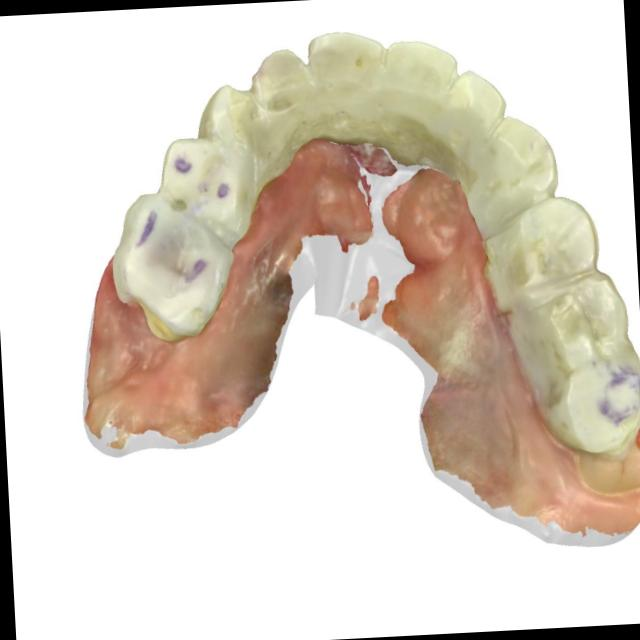tooth: (97, 185, 251, 352), (482, 184, 615, 325), (494, 256, 640, 380), (446, 108, 573, 249), (149, 127, 270, 258), (190, 65, 297, 213), (372, 23, 466, 184), (523, 350, 640, 471), (300, 22, 396, 167), (245, 36, 334, 179), (441, 58, 517, 201)
